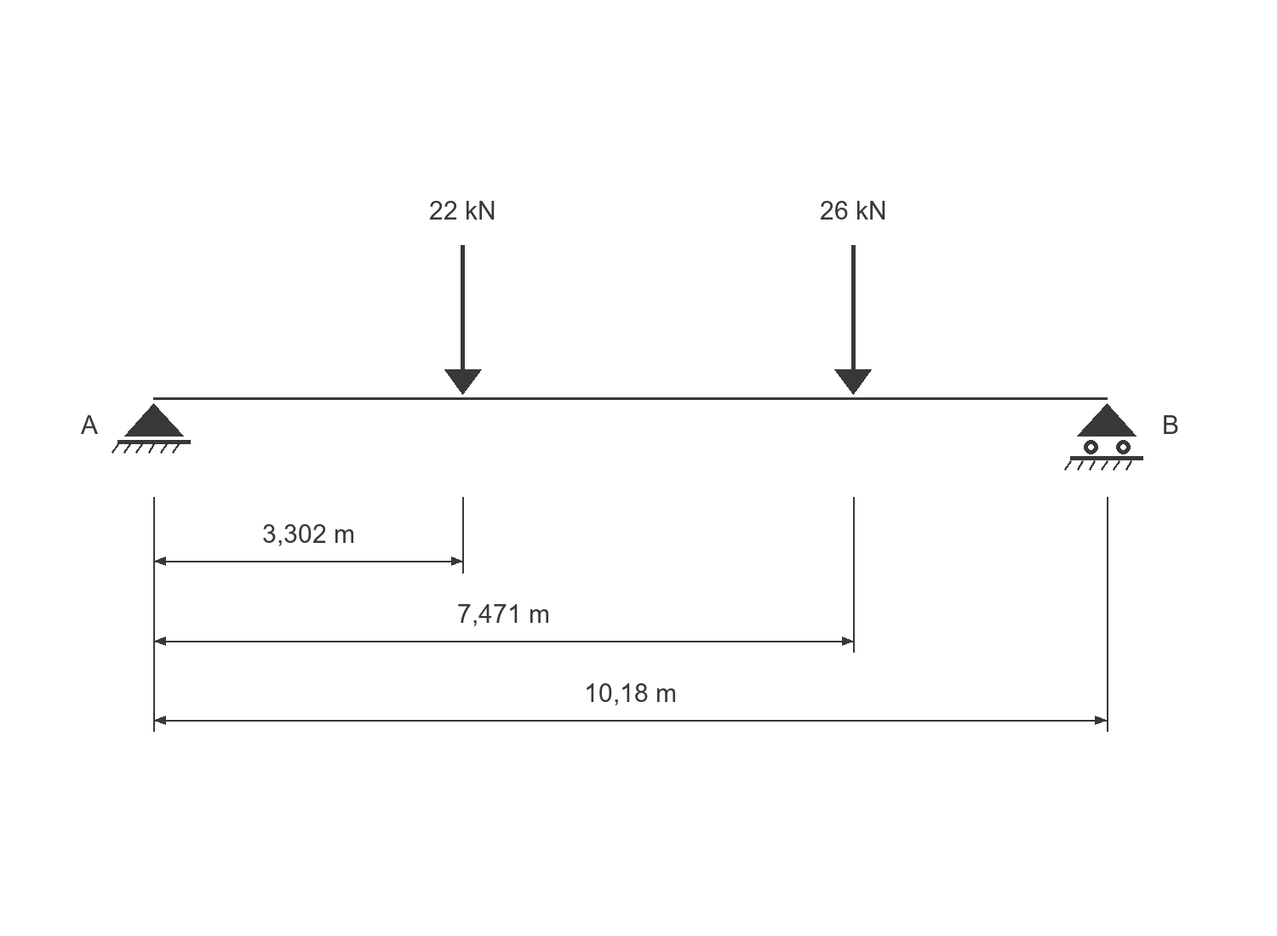pin_support: (112, 403, 191, 454)
point_load: (444, 245, 482, 395), (834, 245, 872, 395)
roller_support: (1064, 403, 1143, 471)
